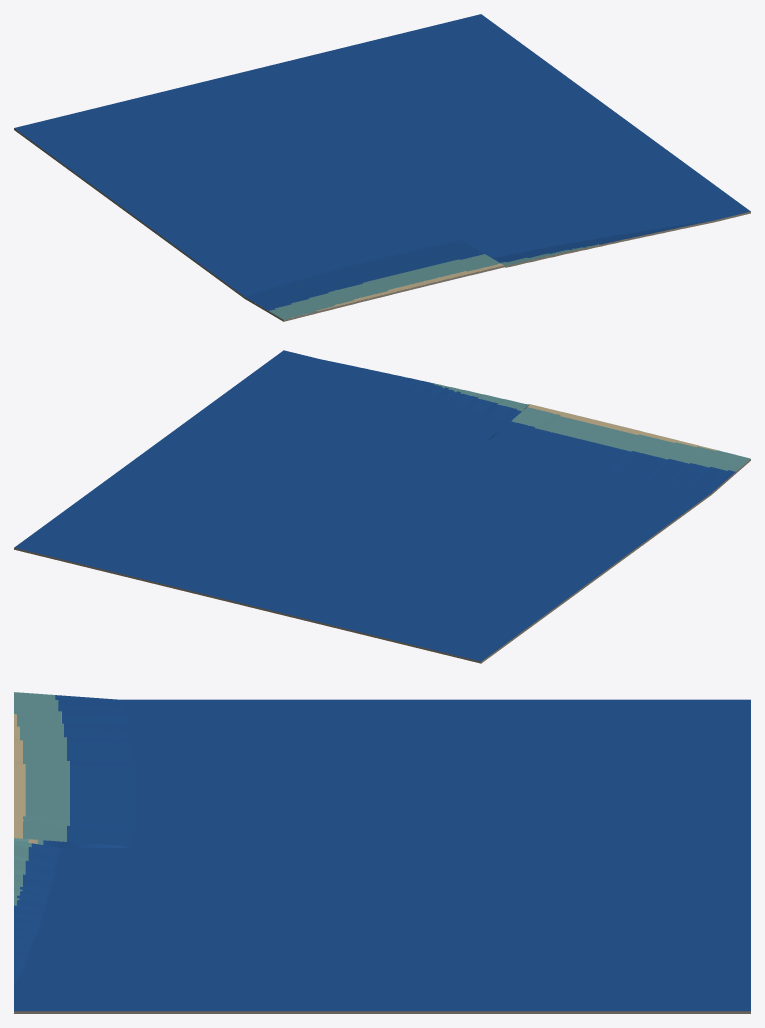
Rendered from parca_+3_+3-yakin.glb.
3 renders of one model, top to bottom at view 1: azimuth 30°, elevation 25°; view 2: azimuth 150°, elevation 25°; view 3: azimuth 270°, elevation 25°, orthographic. The views are drawn at different scales.
Parts seen in each view (by area): view 1: parca_+3_+3_arazi; view 2: parca_+3_+3_arazi; view 3: parca_+3_+3_arazi.
Part boxes in pixels (bbox=[...]): parca_+3_+3_arazi: bbox=[14, 14, 750, 321]; parca_+3_+3_arazi: bbox=[14, 350, 750, 663]; parca_+3_+3_arazi: bbox=[14, 692, 750, 1013].
Bounding box in the file's own units: 1000 × 17.19 × 1000.
